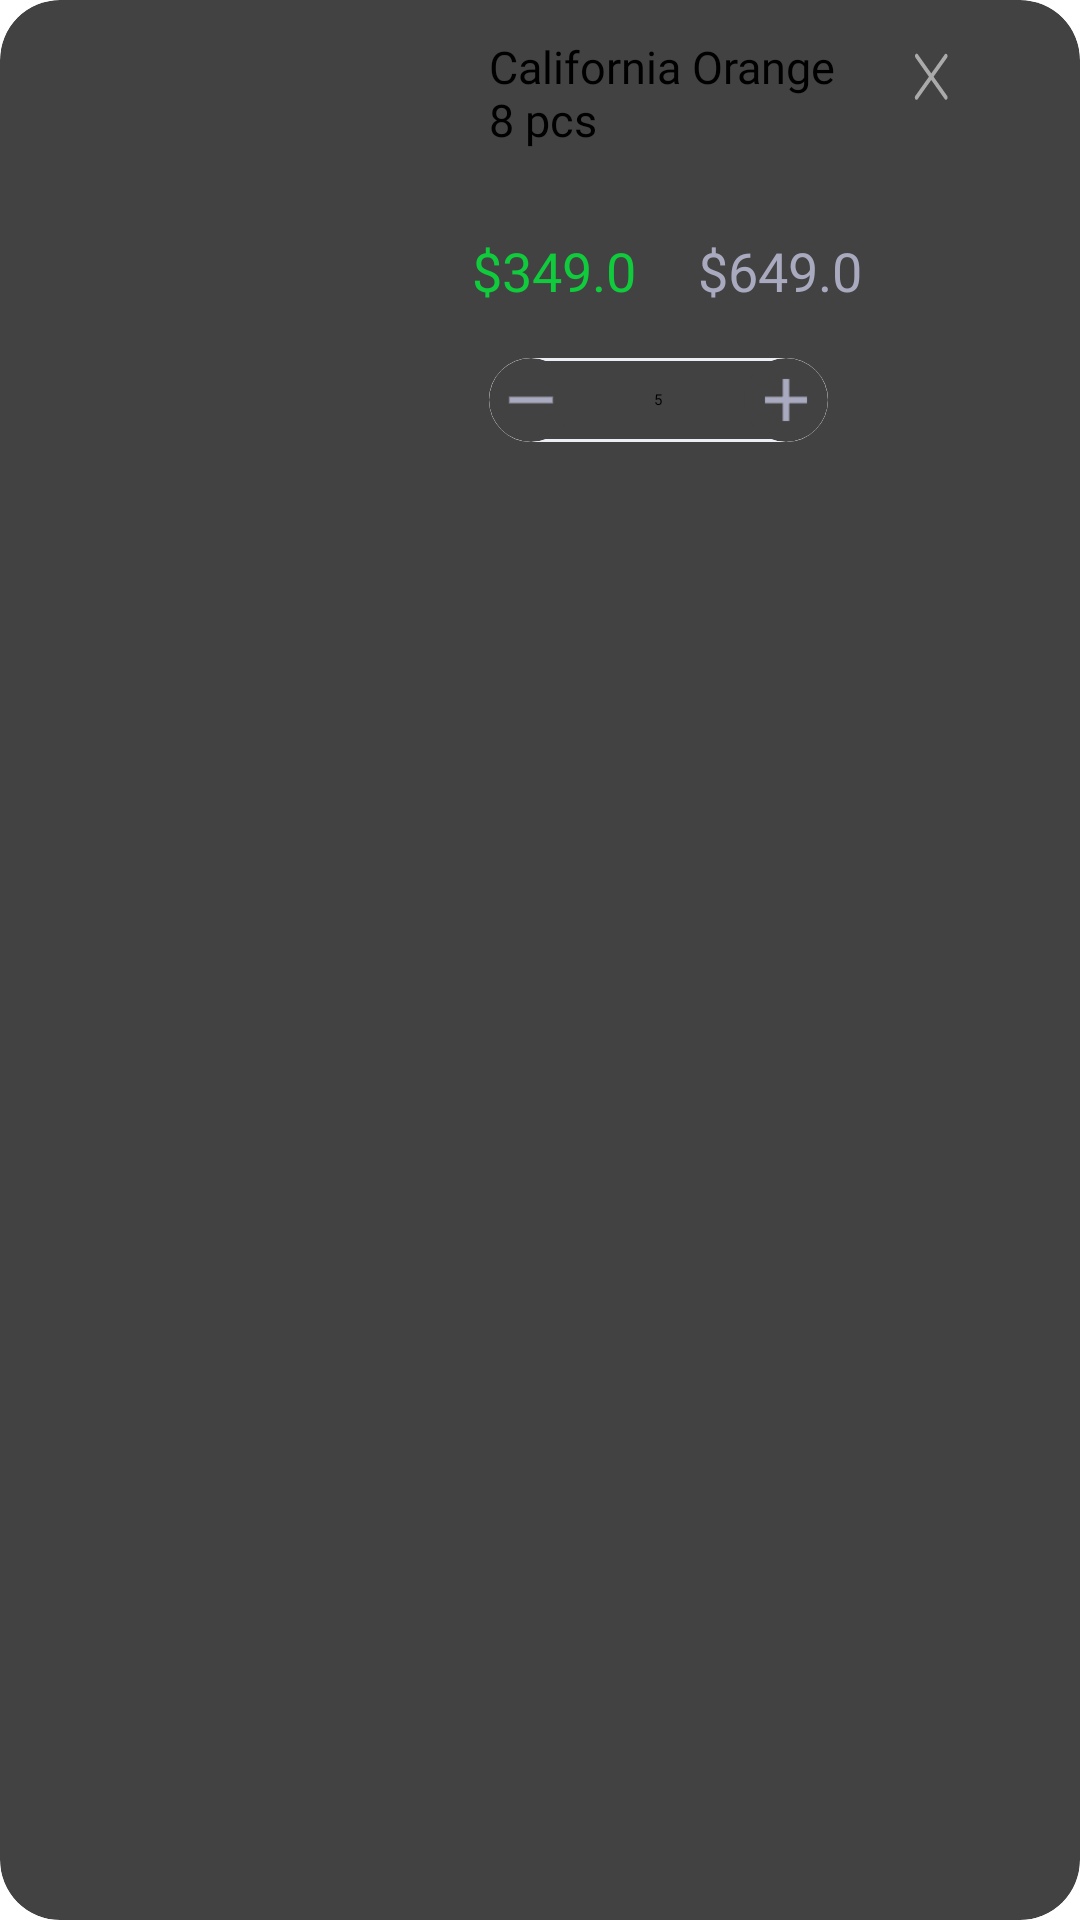

Where to tap for icons on this 1080×1920 app screen, as point (x, y):
close: point (931, 76)
plus smaller: point (796, 400)
remove: point (521, 400)
